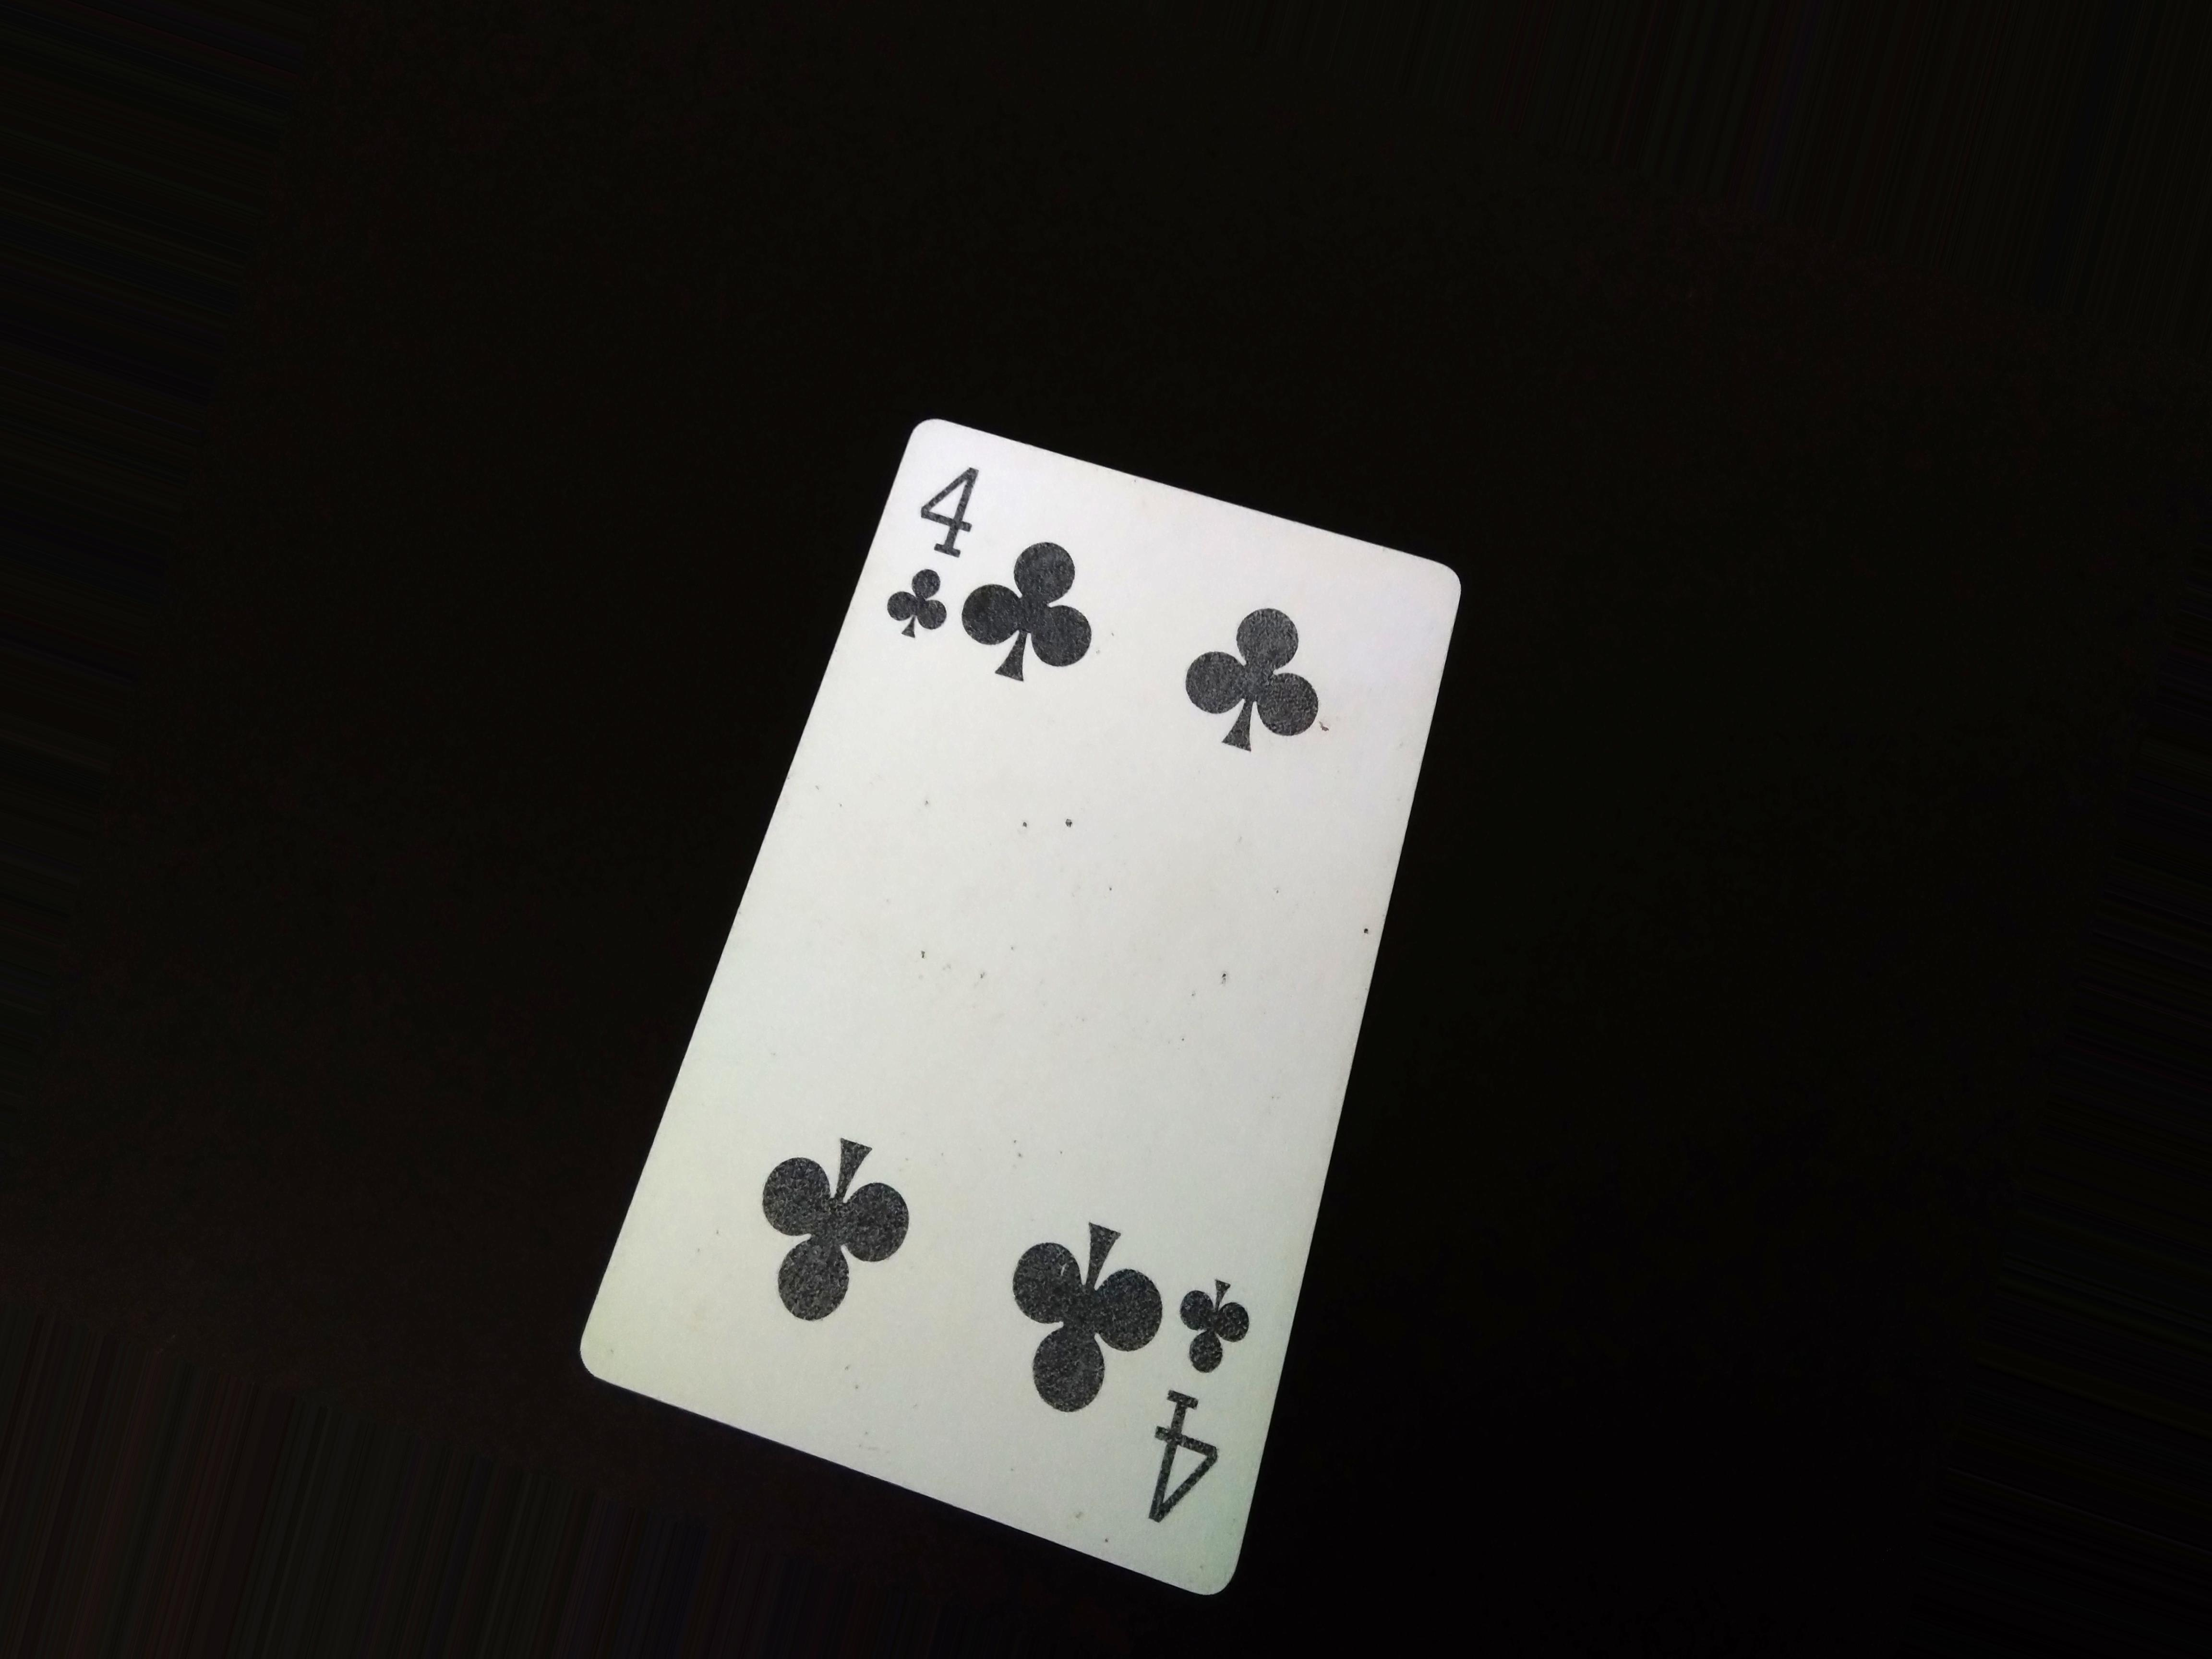4C: (1143, 1262, 1263, 1549)
